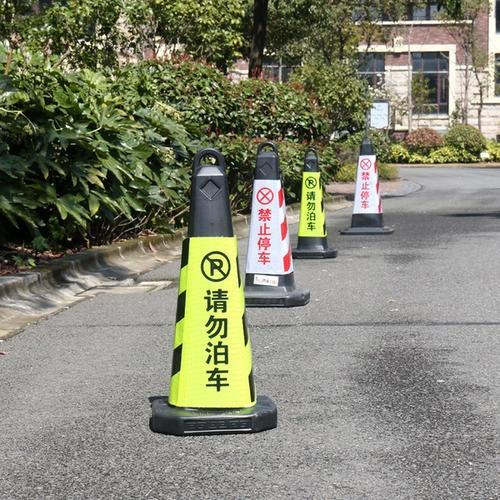cone_barrel: (151, 153, 271, 436), (237, 142, 302, 302), (343, 130, 388, 234), (291, 144, 329, 255)
